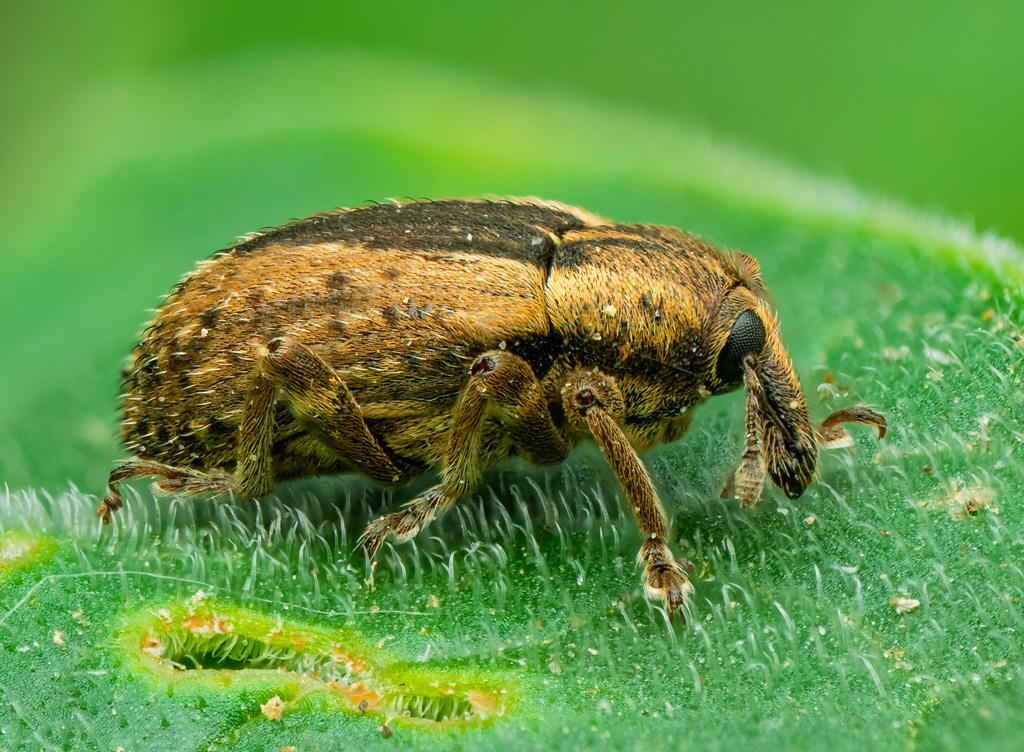weevils: (0, 110, 941, 693)
